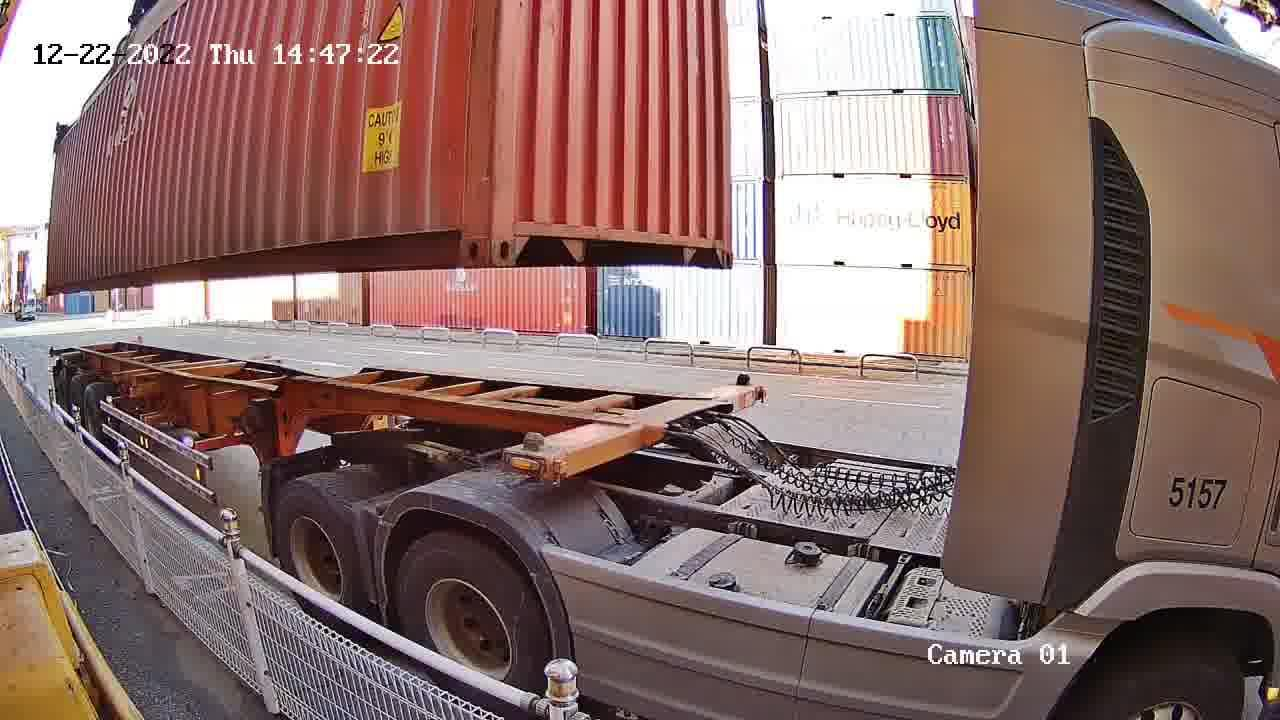Chassis: (502, 384, 764, 477)
Cone: (504, 429, 552, 488), (727, 370, 761, 390)
Hole_L: (492, 210, 545, 266)
Hole_R: (427, 210, 492, 267), (699, 223, 733, 269)
Tire: (398, 535, 549, 691), (273, 482, 365, 606)
